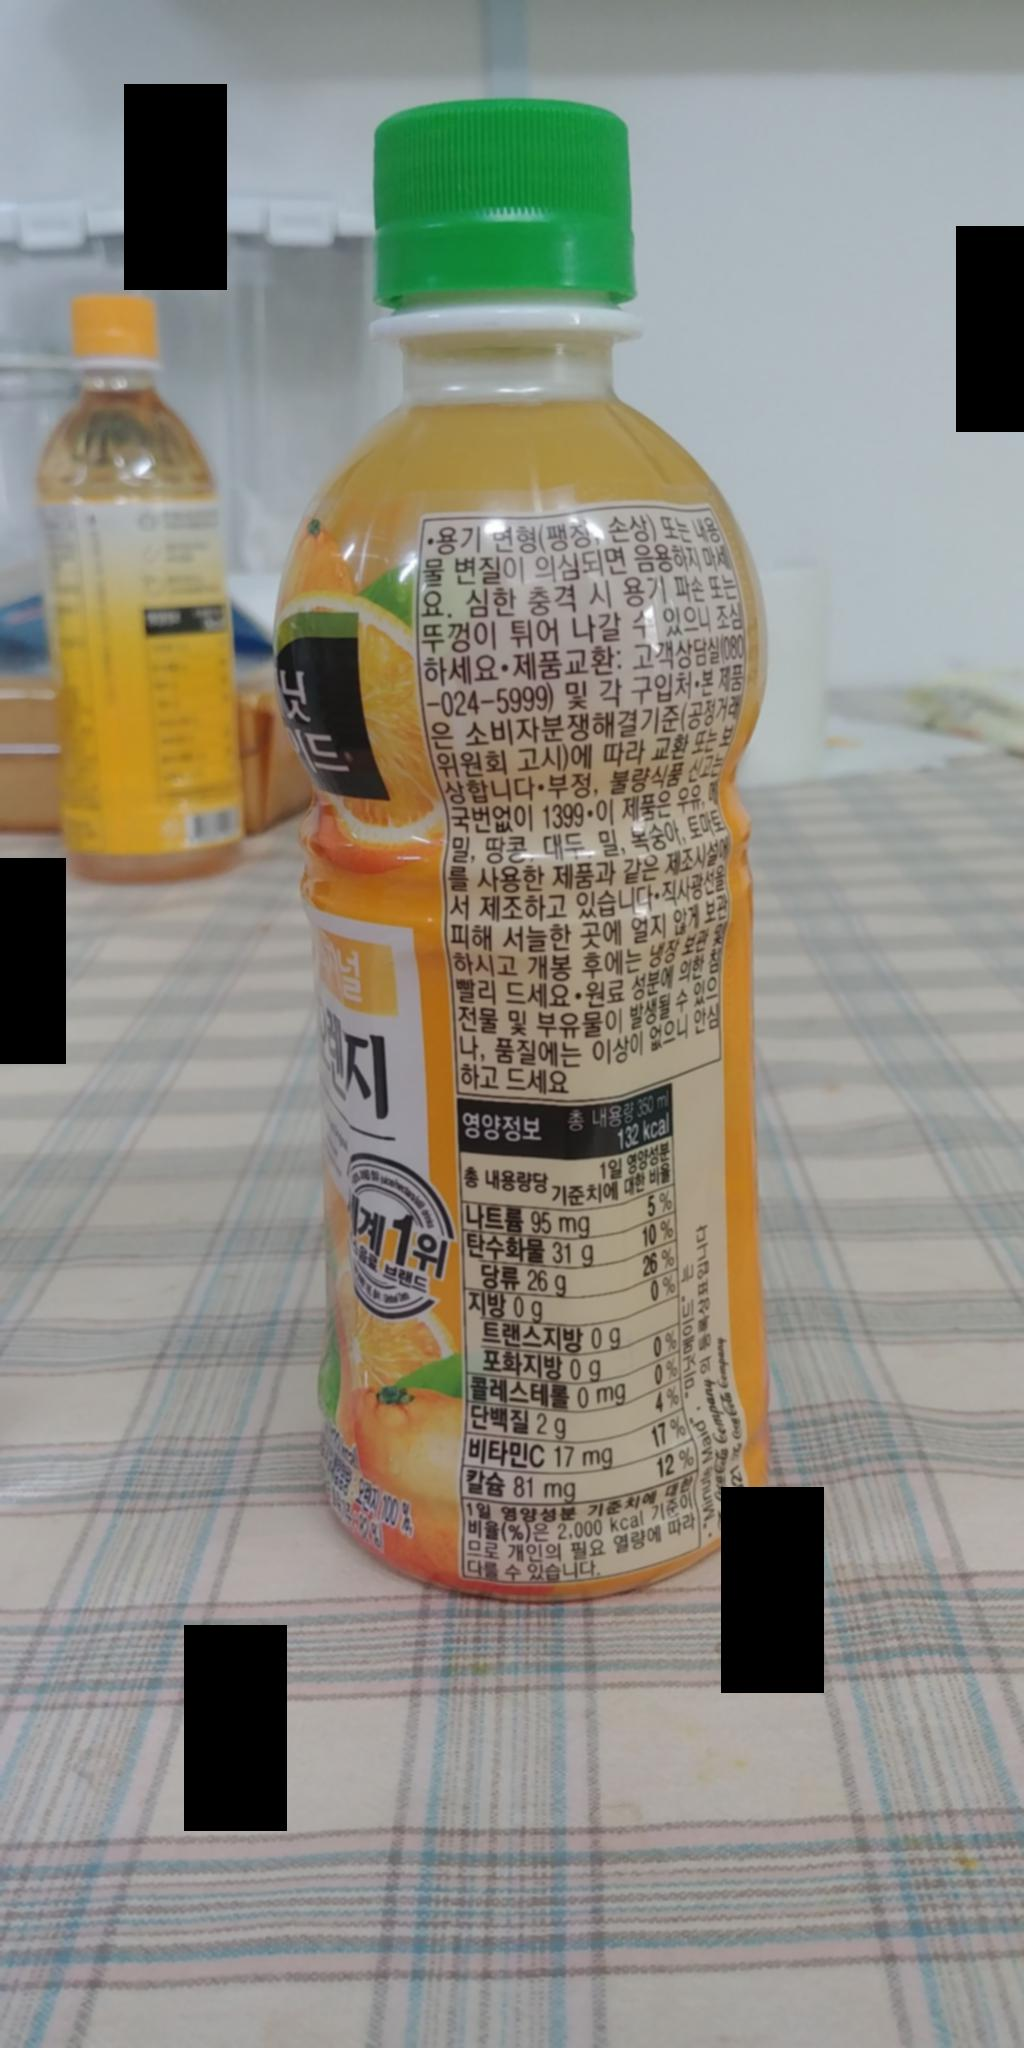minutemaid_org_orange: (223, 68, 880, 1643)
